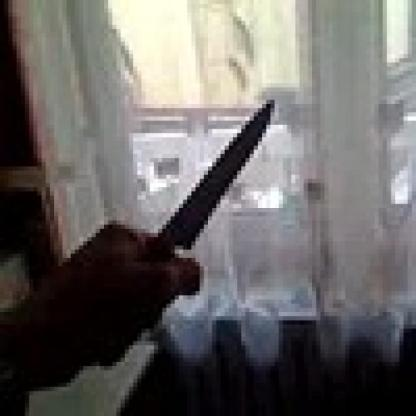Knife: (158, 91, 287, 283)
